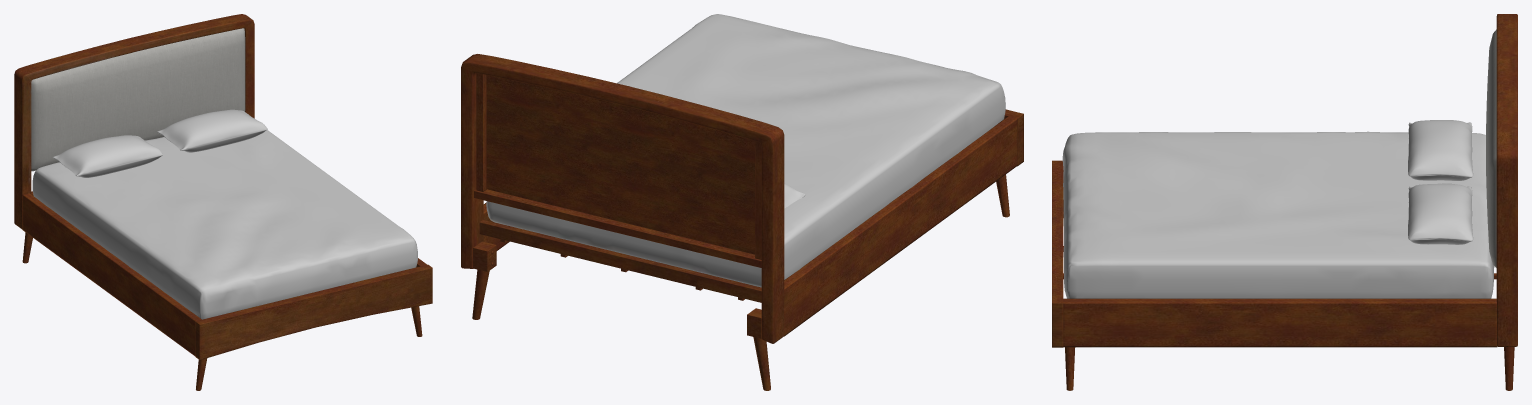
File: abo_B07B4VXZZX.glb
3 renders of one model, left to right at view 1: azimuth 30°, elevation 25°; view 2: azimuth 150°, elevation 25°; view 3: azimuth 270°, elevation 25°, orthographic. The views are drawn at different scales.
Visible parts, largest first — view 1: RootNode; view 2: RootNode; view 3: RootNode.
Boxes of the visible parts, bbox=[...] form: RootNode: bbox=[14, 14, 432, 390]; RootNode: bbox=[461, 14, 1023, 390]; RootNode: bbox=[1052, 14, 1517, 390].
Bounding box in the file's own units: 1.59 × 1.27 × 2.2.
1 material, 1 textured.
